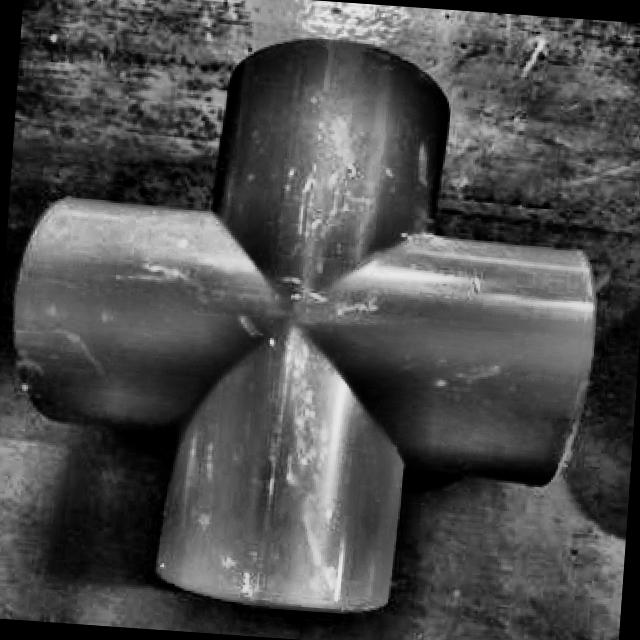EQUALCROSS: (10, 35, 596, 615)
